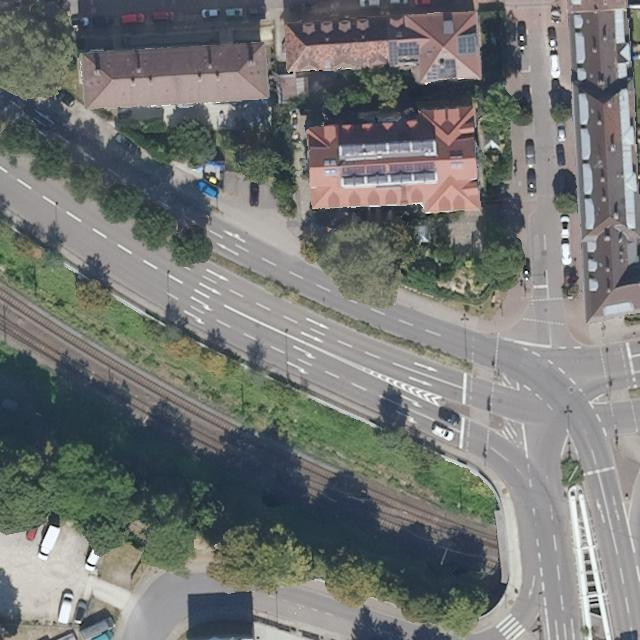PV: (425, 56, 459, 84), (457, 33, 478, 56), (396, 40, 422, 58), (385, 40, 400, 68)
